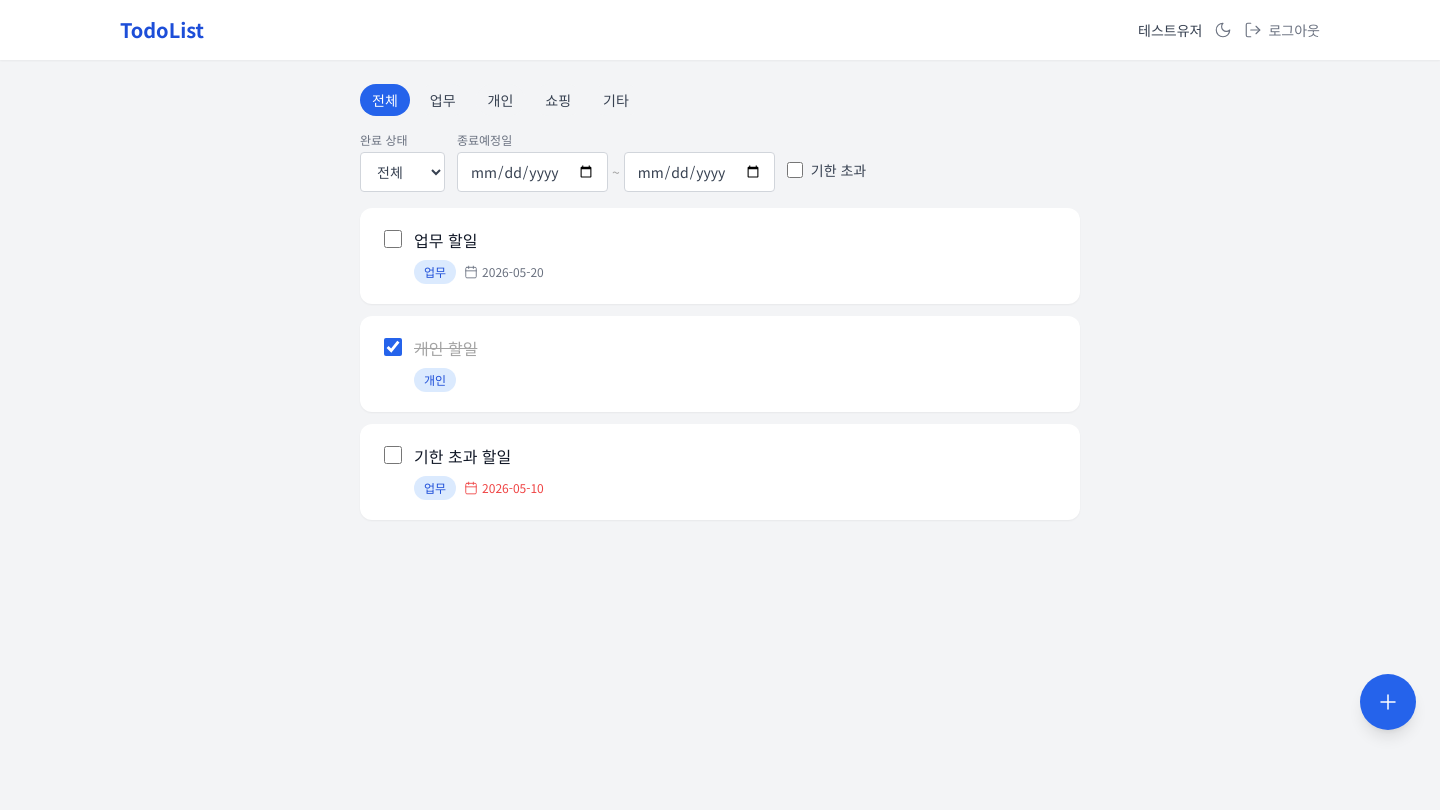
Scenario: Todos Integration › 완료 여부 필터 - 완료 항목만 표시
This screenshot has width=1440, height=810.
expect the text "업무 할일" is shown: met, box [414,228,477,252]
Select "완료" in the dropdown at (402, 172), box [360,152,445,192]
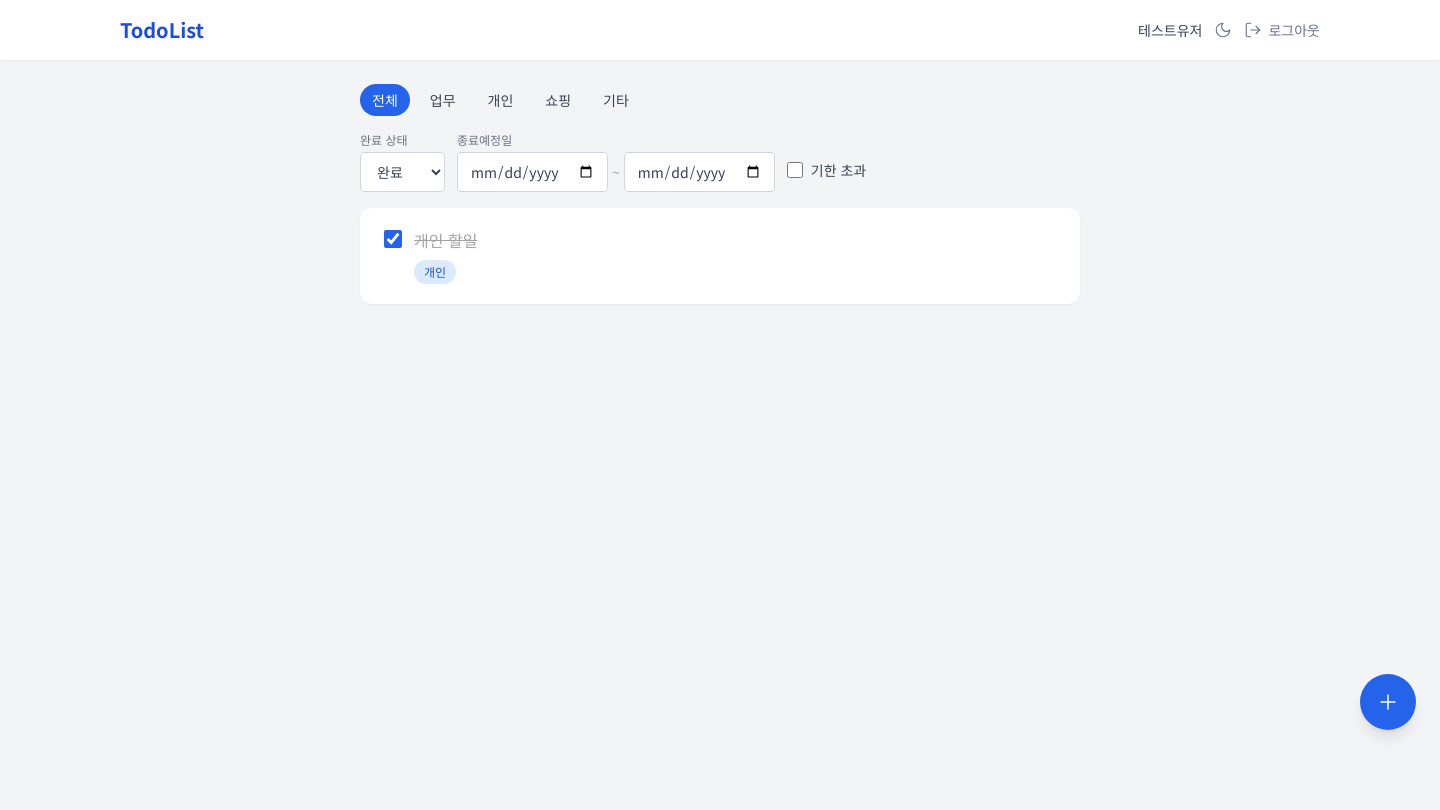
expect the text "개인 할일" is shown: met, box [414,228,477,252]
expect the text "업무 할일" is gone: met
